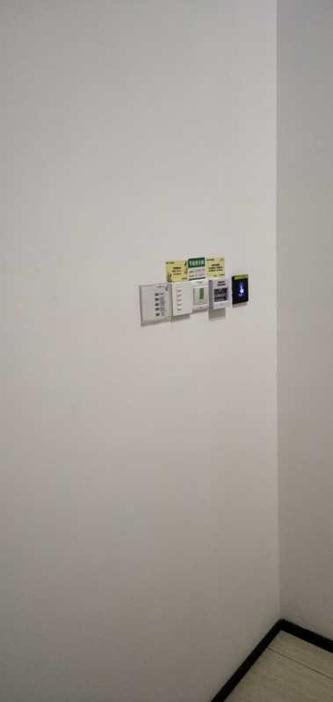switch: (175, 286, 195, 311)
